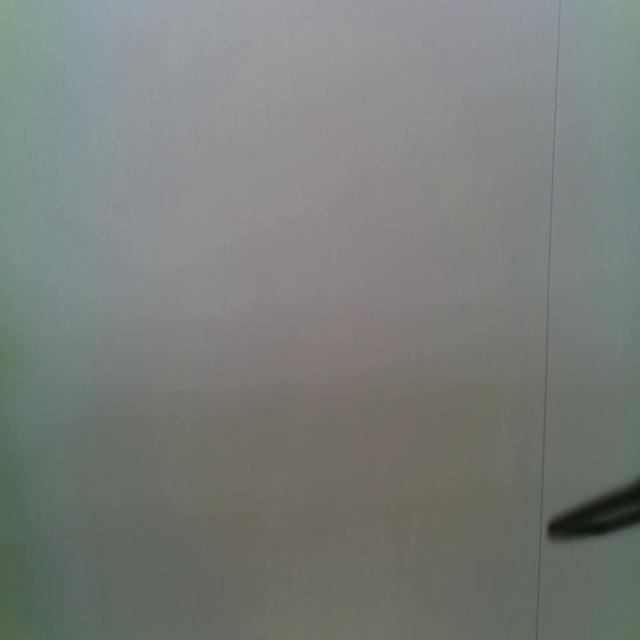crease: (540, 1, 564, 504), (534, 502, 545, 640)
